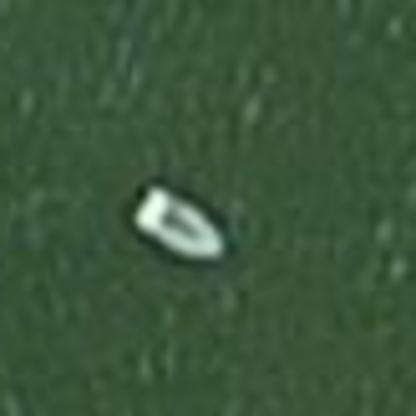ship: (114, 168, 244, 276)
